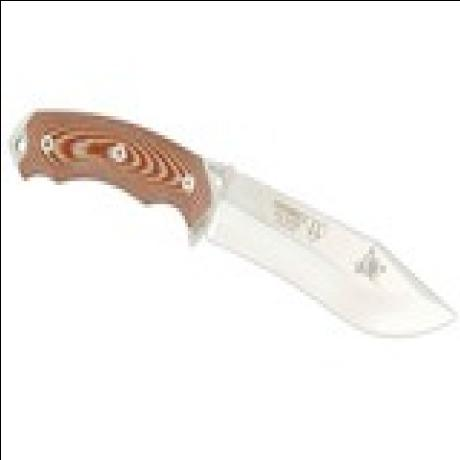weapon: (5, 106, 457, 340)
